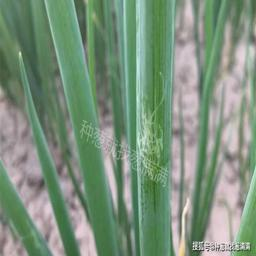liriomyza: (135, 72, 164, 180)
